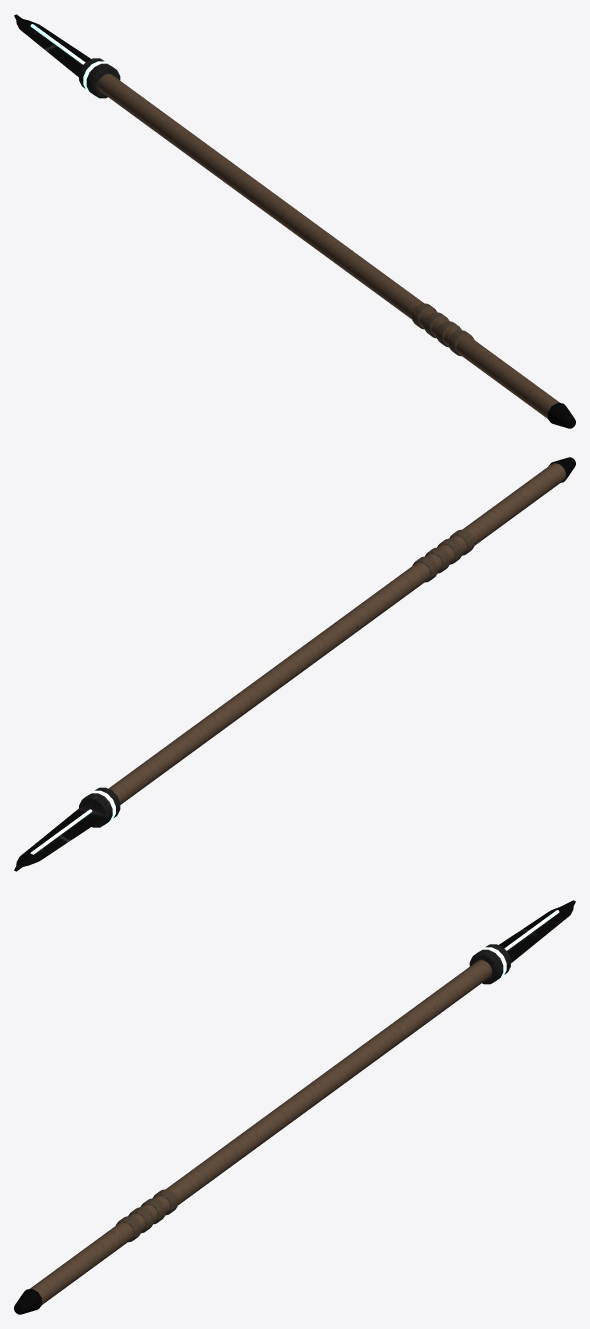
File: lanza.glb
The picture shows the model from 3 angles, top to bottom: view 1: azimuth 30°, elevation 25°; view 2: azimuth 150°, elevation 25°; view 3: azimuth 330°, elevation 25°; orthographic projection.
Visible parts, largest first — view 1: lanza; view 2: lanza; view 3: lanza.
Part boxes in pixels (bbox=[...]): lanza: bbox=[14, 14, 575, 428]; lanza: bbox=[14, 457, 575, 871]; lanza: bbox=[14, 900, 575, 1314].
Size of the model in its own units: 0.0702 by 0.072 by 2.28.
Materials: 2 (1 with a texture image).
